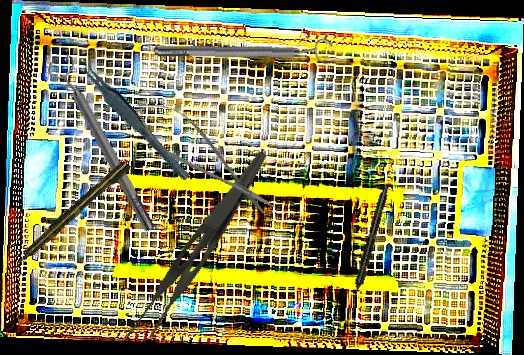Dressing Forceps: (123, 137, 269, 353)
Fixation Ring: (44, 51, 163, 238), (153, 35, 334, 67)
Handpiece: (9, 158, 133, 272), (348, 184, 392, 302)
Micro Scissor: (123, 86, 286, 230)
Tissue Forceps: (77, 46, 192, 193)
